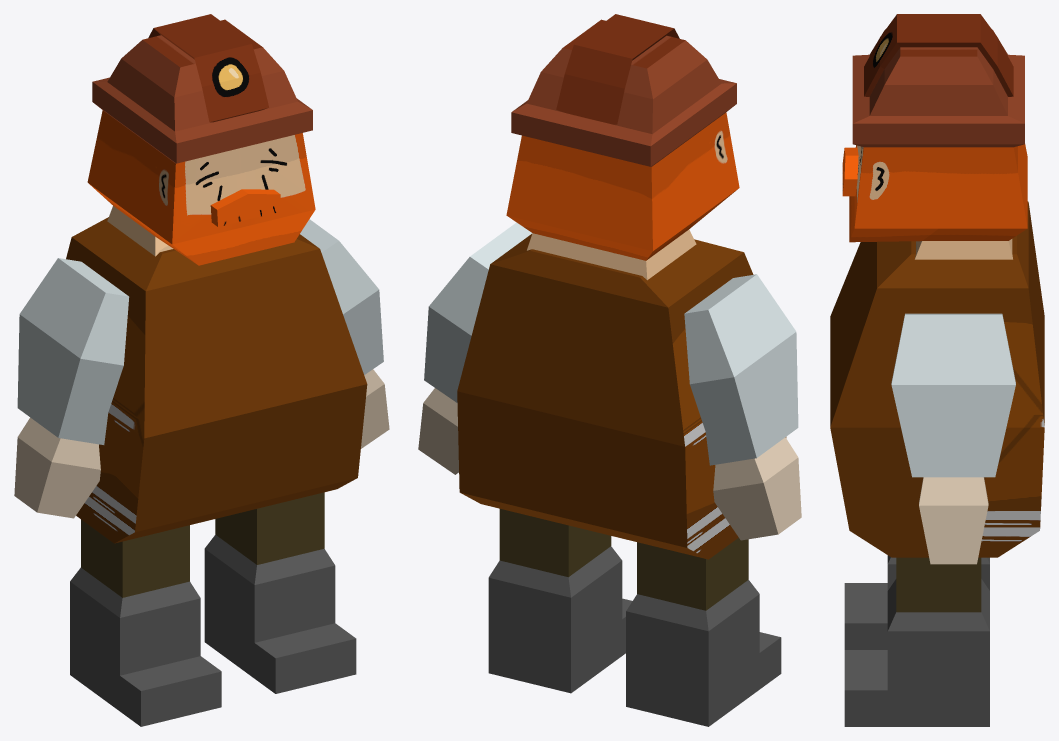
File: miner.fbx
3 renders of one model, left to right at view 1: azimuth 30°, elevation 25°; view 2: azimuth 150°, elevation 25°; view 3: azimuth 270°, elevation 25°, orthographic. The views are drawn at different scales.
Parts seen in each view (by area): view 1: torso, head, legright, legleft, armright, handright, armleft, handleft; view 2: torso, head, legright, legleft, armright, handright, armleft, handleft; view 3: torso, head, legleft, armleft, handleft, legright.
Part boxes in pixels (x1,y1,x2,y2): torso: (66, 217, 367, 543); head: (87, 14, 315, 265); legright: (70, 519, 221, 726); legleft: (204, 492, 356, 693); armright: (17, 258, 129, 444); handright: (14, 417, 100, 518); armleft: (300, 219, 383, 374); handleft: (361, 369, 389, 448); torso: (457, 234, 786, 559); head: (506, 14, 739, 280); legright: (626, 537, 781, 726); legleft: (488, 509, 632, 693); armright: (684, 274, 798, 465); handright: (713, 437, 801, 540); armleft: (424, 222, 532, 402); handleft: (418, 388, 458, 474); torso: (830, 201, 1044, 557); head: (842, 14, 1027, 259); legleft: (844, 557, 989, 726); armleft: (891, 313, 1015, 477); handleft: (919, 477, 988, 564); legright: (844, 555, 989, 649).
Bounding box in the file's own units: 4.27 × 7.3 × 2.2.
